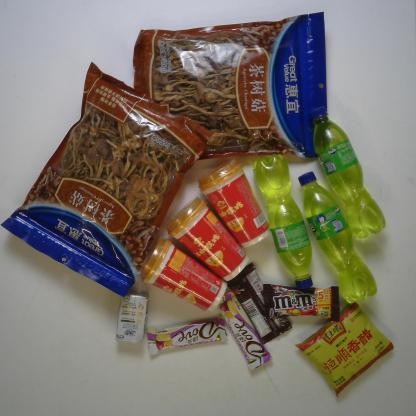Chocolate: (227, 261, 294, 346), (217, 290, 274, 372), (146, 314, 230, 358), (262, 282, 341, 324)
Dried Food: (0, 61, 216, 300), (132, 10, 329, 162)
Drink: (298, 170, 378, 306), (308, 105, 387, 240), (252, 153, 316, 292)
Instant Drink: (164, 195, 250, 282), (195, 154, 272, 249), (137, 236, 228, 314)
Milk: (114, 289, 150, 345)
Seasoner: (294, 301, 396, 399)
